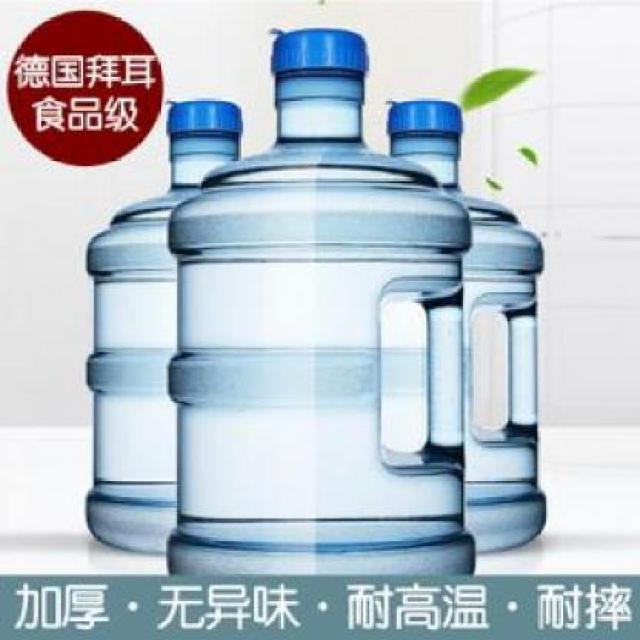coolerbottle: (157, 27, 484, 576)
